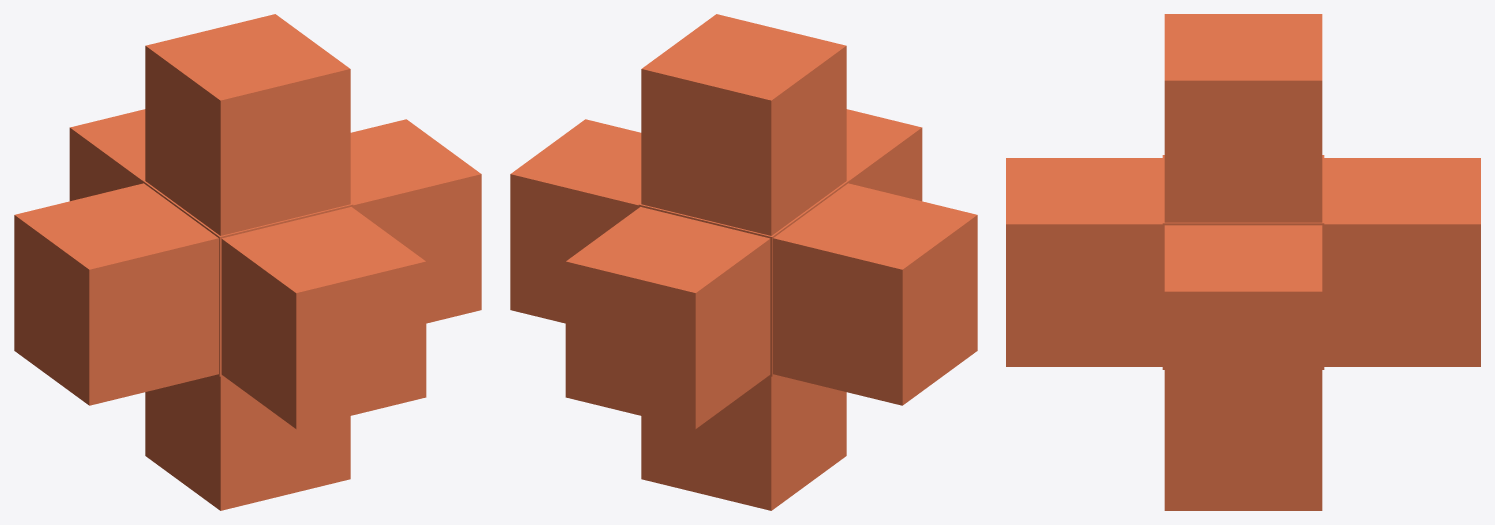
The model's file is healthPickupMesh.fbx.
3 views of the same model, side by side, from view 1: azimuth 30°, elevation 25°; view 2: azimuth 150°, elevation 25°; view 3: azimuth 270°, elevation 25° (orthographic). The views are drawn at different scales.
Visible parts, largest first — view 1: Cube; view 2: Cube; view 3: Cube.
Part boxes in pixels (left/top/right/bottom): Cube: left=14, top=14, right=481, bottom=510; Cube: left=510, top=14, right=977, bottom=510; Cube: left=1006, top=14, right=1480, bottom=510.
Size of the model in its own units: 588 by 588 by 588.
